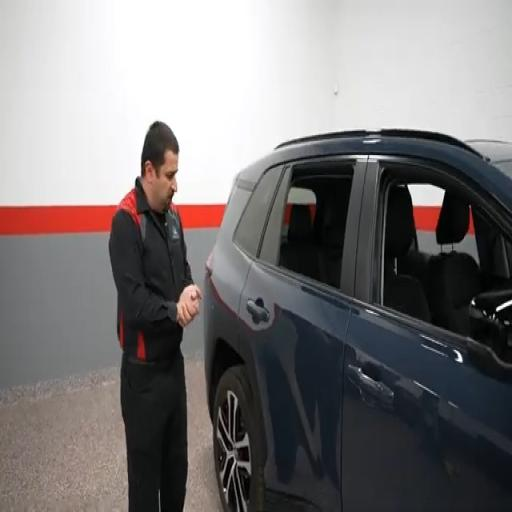door: (342, 157, 511, 511), (239, 158, 366, 510)
side_mirror: (469, 289, 511, 369)
tire: (213, 366, 264, 511)
wheel: (213, 366, 264, 511)
window: (372, 163, 511, 337), (260, 163, 353, 288), (234, 167, 281, 257)
windshield: (494, 160, 511, 177)
